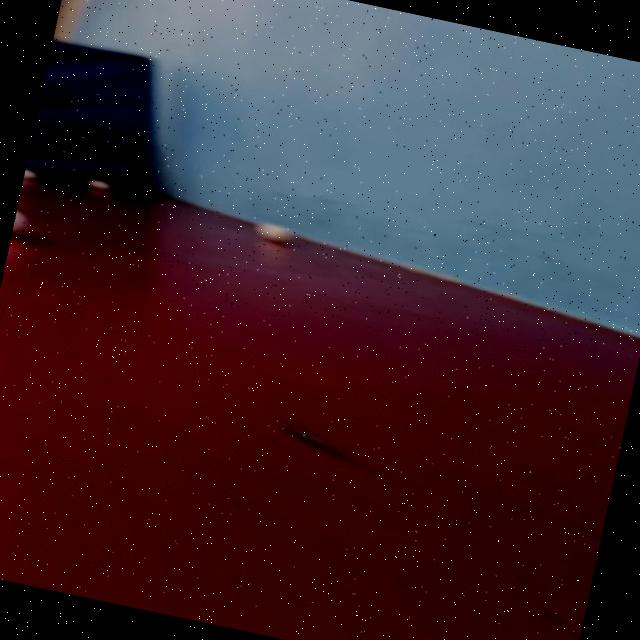ping-pong-ball: (247, 214, 306, 255), (9, 208, 42, 245), (82, 170, 122, 198), (20, 174, 34, 197)
